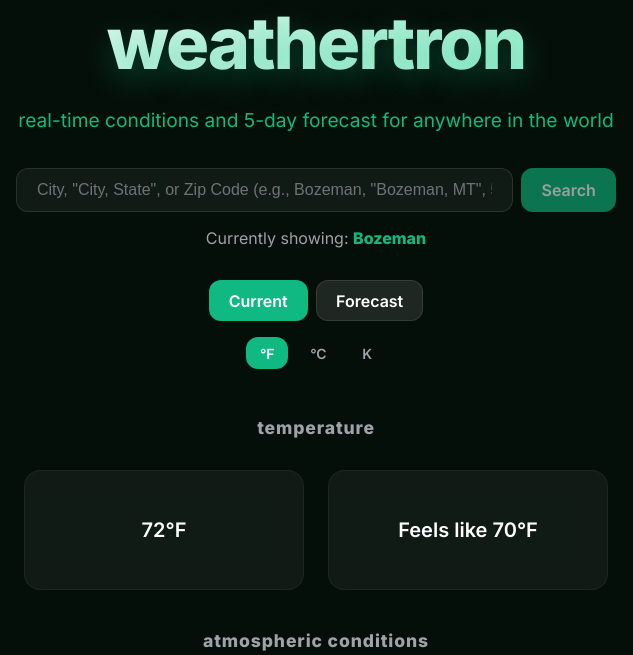
Test case: Weather Component › switches to forecast view
Click the button "Forecast": (370, 301) [316, 280, 424, 321]
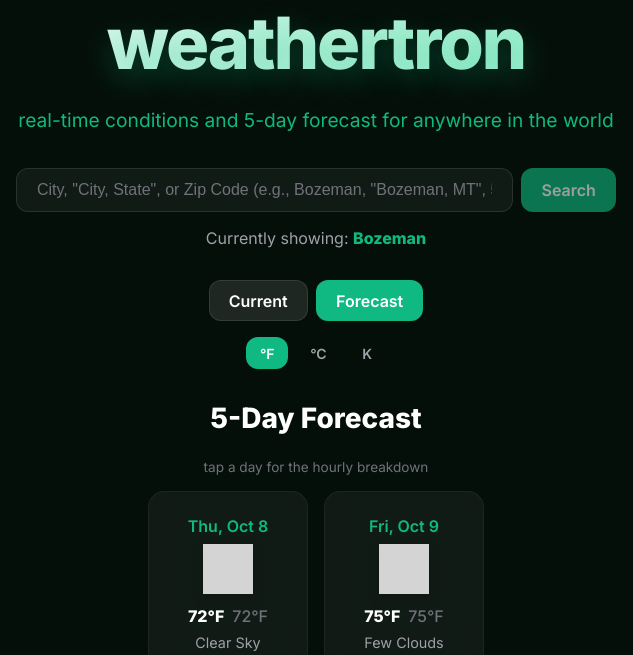
Now the heading "5-Day Forecast" is shown, box [210, 401, 422, 435]
